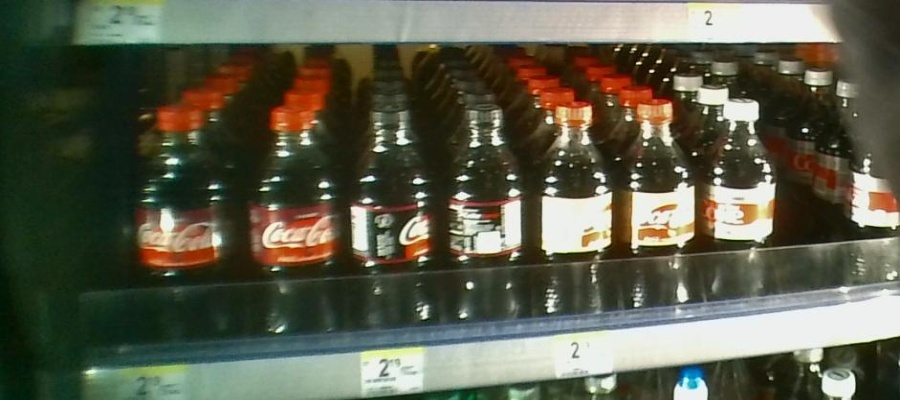bottle: (132, 101, 240, 355), (339, 97, 436, 354), (243, 100, 338, 355), (439, 97, 528, 347), (534, 94, 620, 347), (618, 85, 700, 312), (703, 93, 779, 310)
